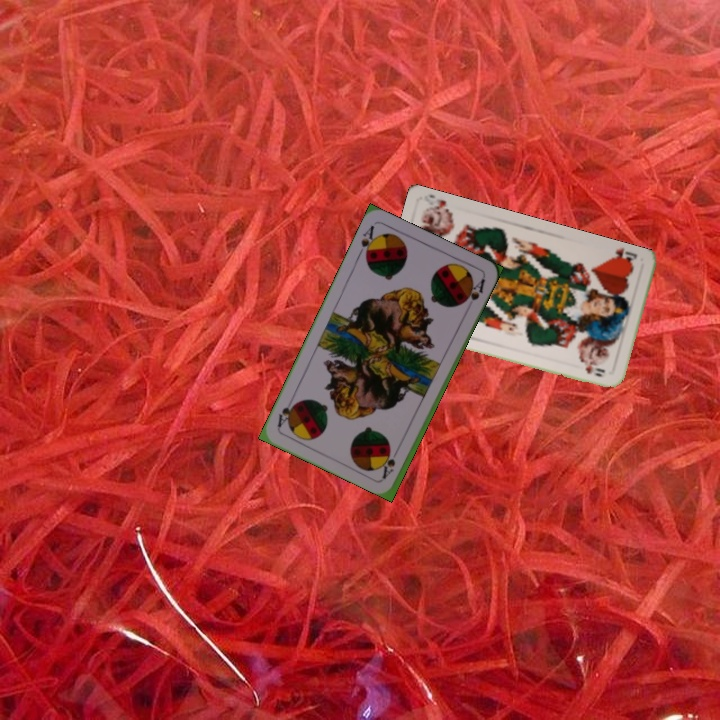HO: (605, 244, 640, 268)
SA: (354, 221, 380, 262), (378, 442, 402, 481)
